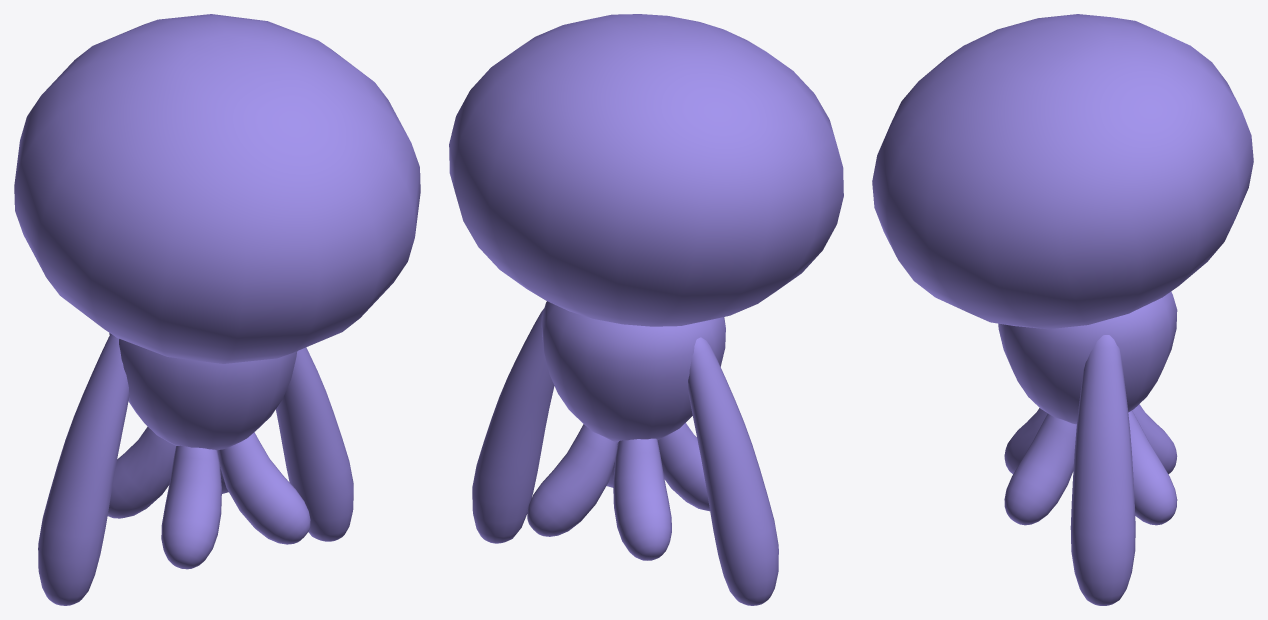
The model's file is Alien_new.fbx.
The picture shows the model from 3 angles, left to right: view 1: azimuth 30°, elevation 25°; view 2: azimuth 150°, elevation 25°; view 3: azimuth 270°, elevation 25°; orthographic projection. The views are drawn at different scales.
Parts seen in each view (by area): view 1: Alien; view 2: Alien; view 3: Alien.
Boxes of the visible parts, x1=… form: Alien: x1=14, y1=14, x2=420, y2=605; Alien: x1=449, y1=14, x2=843, y2=605; Alien: x1=872, y1=14, x2=1253, y2=605.
Bounding box in the file's own units: 38.76 × 56.24 × 38.38.
